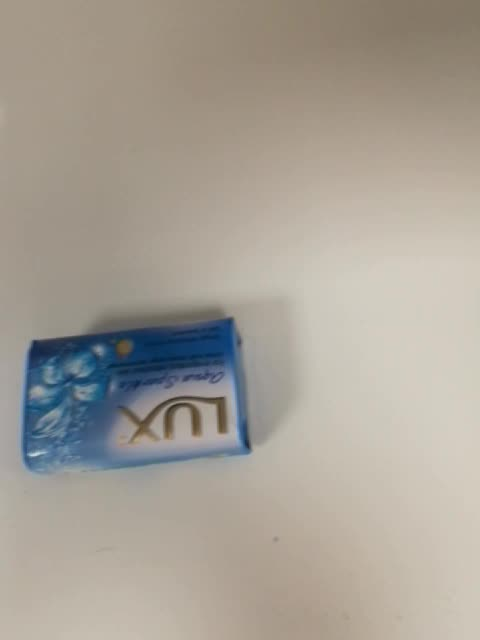soap: (19, 316, 253, 475)
